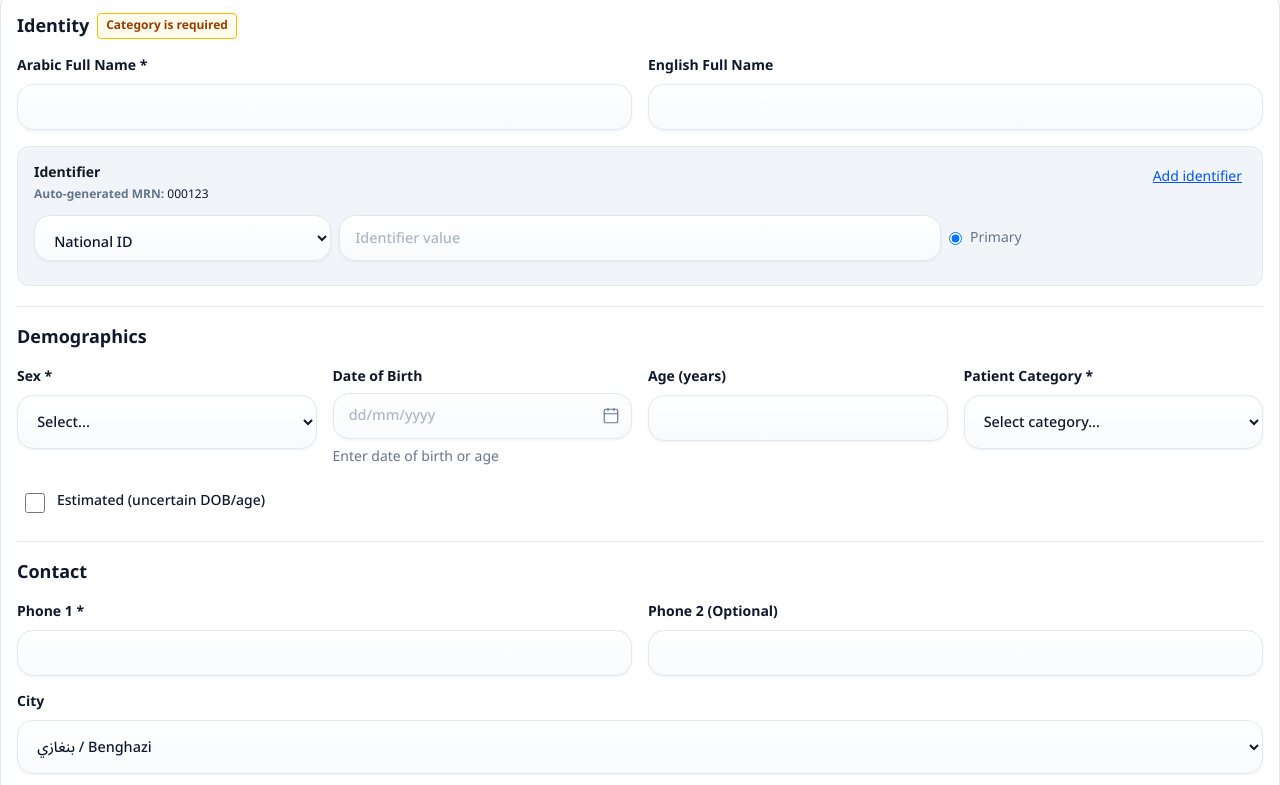
Scenario: PatientForm workflow hardening › blocks registering when patient category is not selected
This screenshot has width=1280, height=785.
Type "محمد علي حسن" into the field named "Arabic Full Name" at (324, 107), box [17,84,632,130]
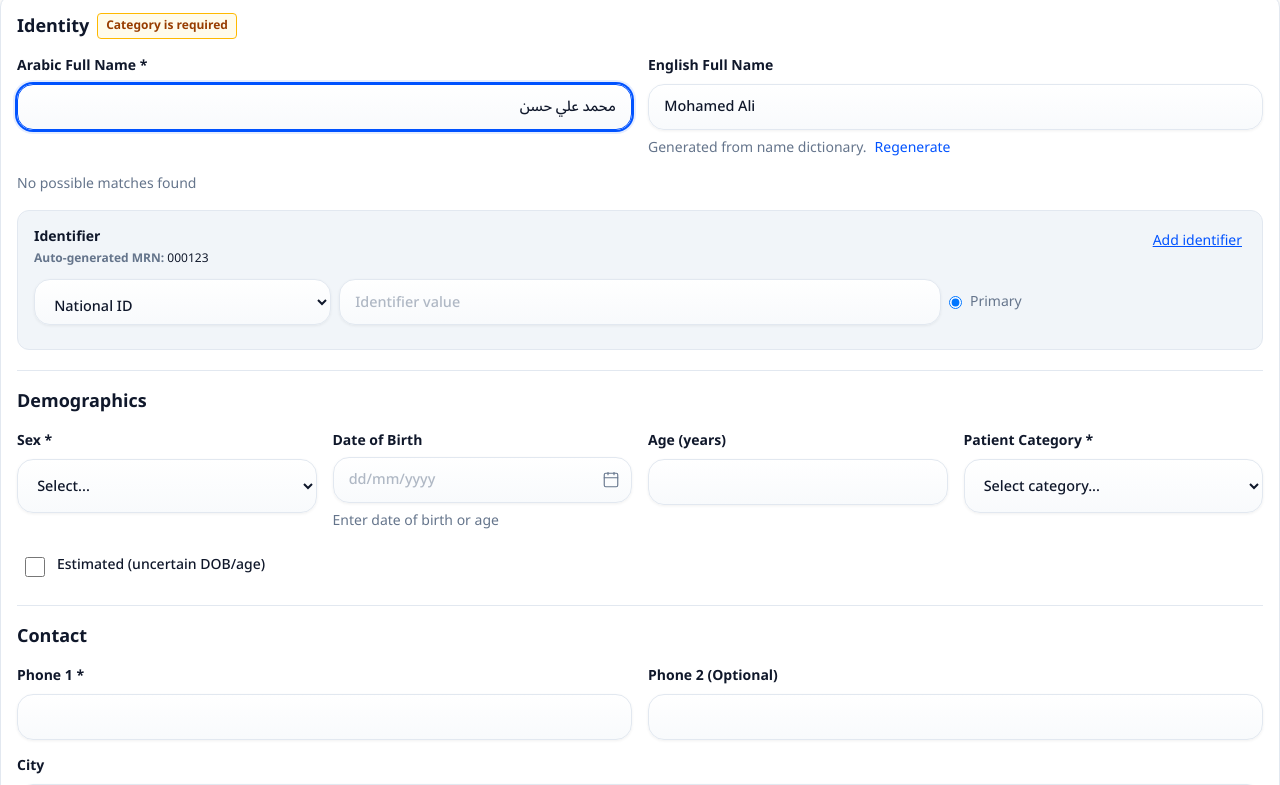
Select "Male" in the dropdown named "Sex" at (167, 486), box [17,459,316,513]
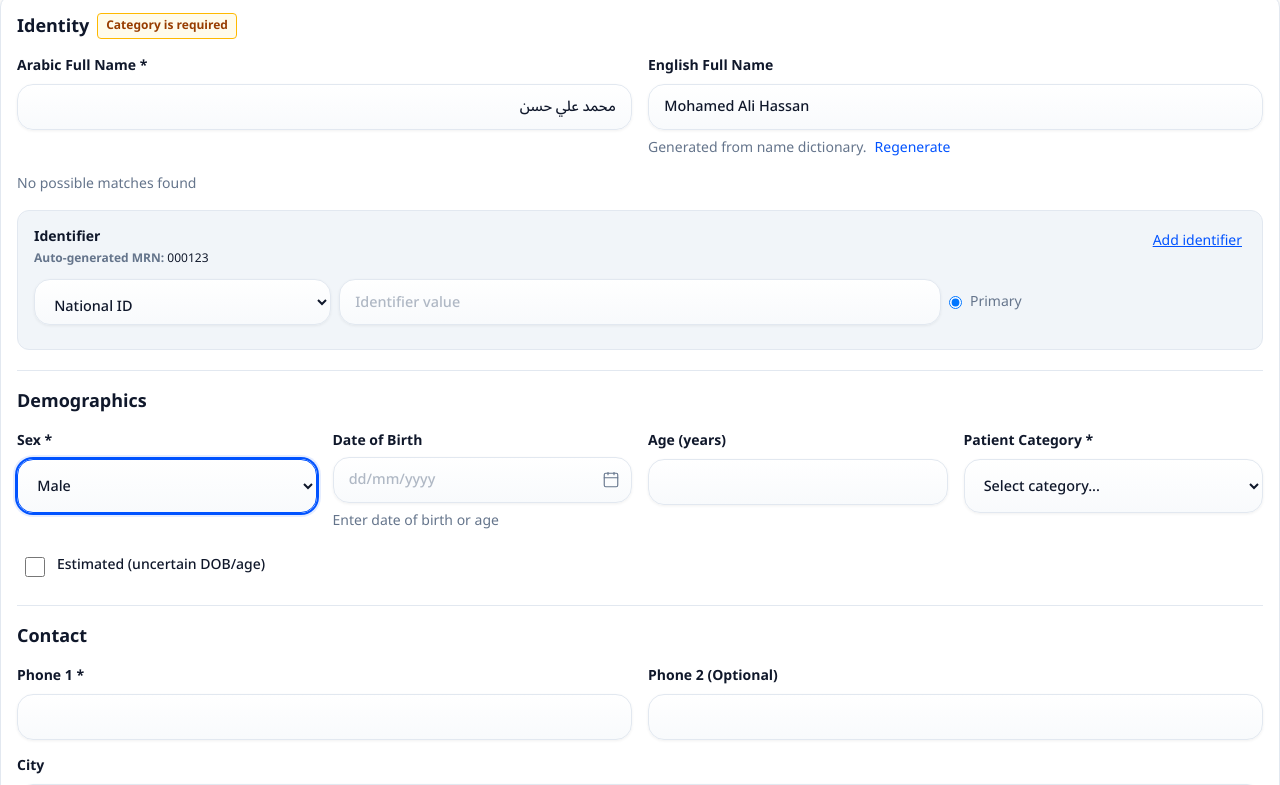
Type "28" into the number field named "Age (years)" at (798, 482), box [648,459,948,505]
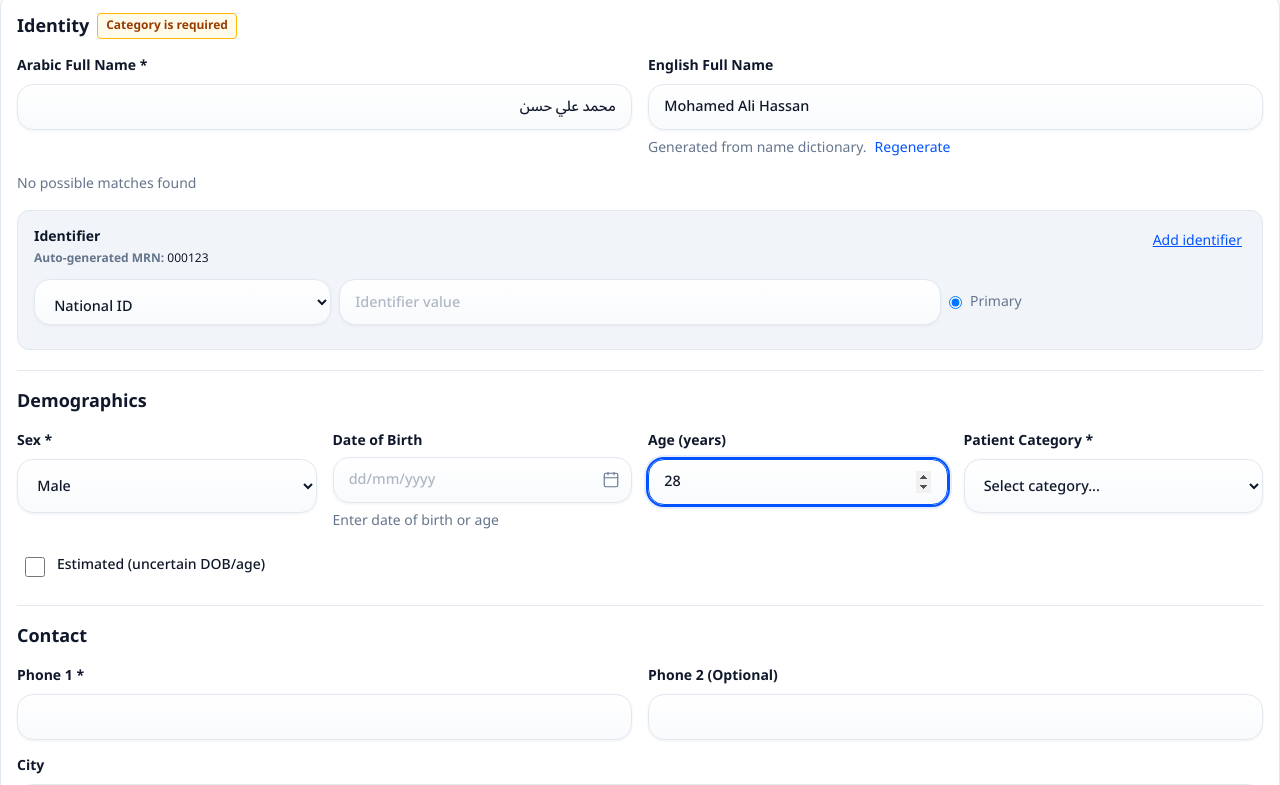
Type "0912345678" into the field named "Phone 1" at (324, 717), box [17,694,632,740]
(page scrolled)
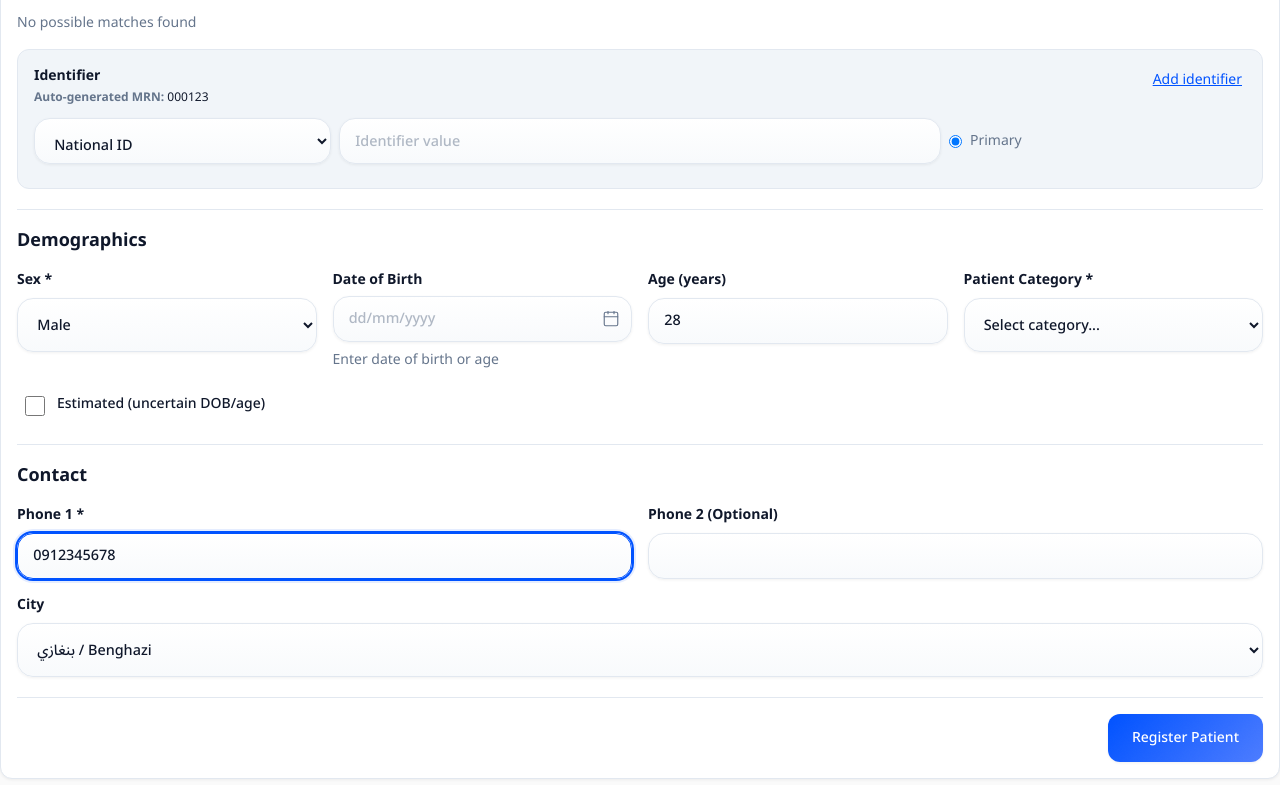
Click the button "Register Patient" at (1185, 738), box [1108,714,1263,762]
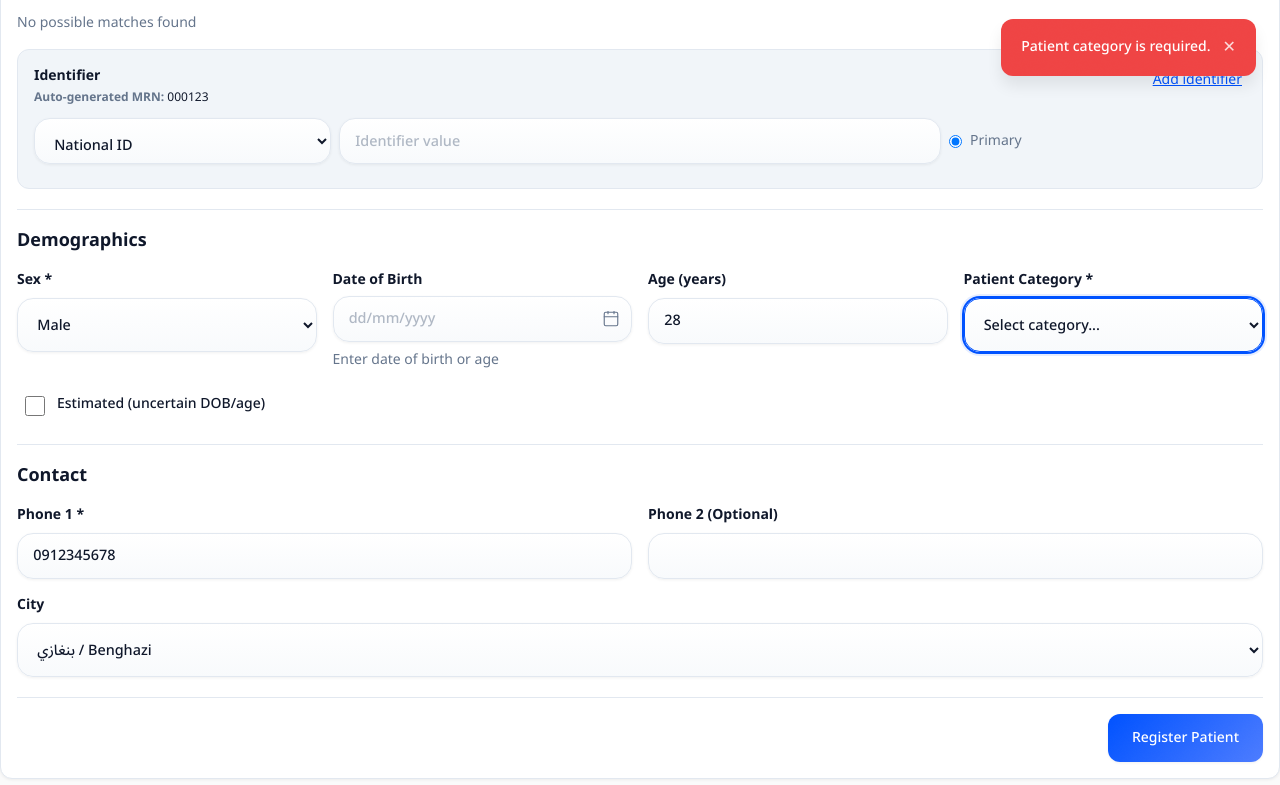
Result: the text "Patient category is required." is shown at [1021,37,1211,57]
